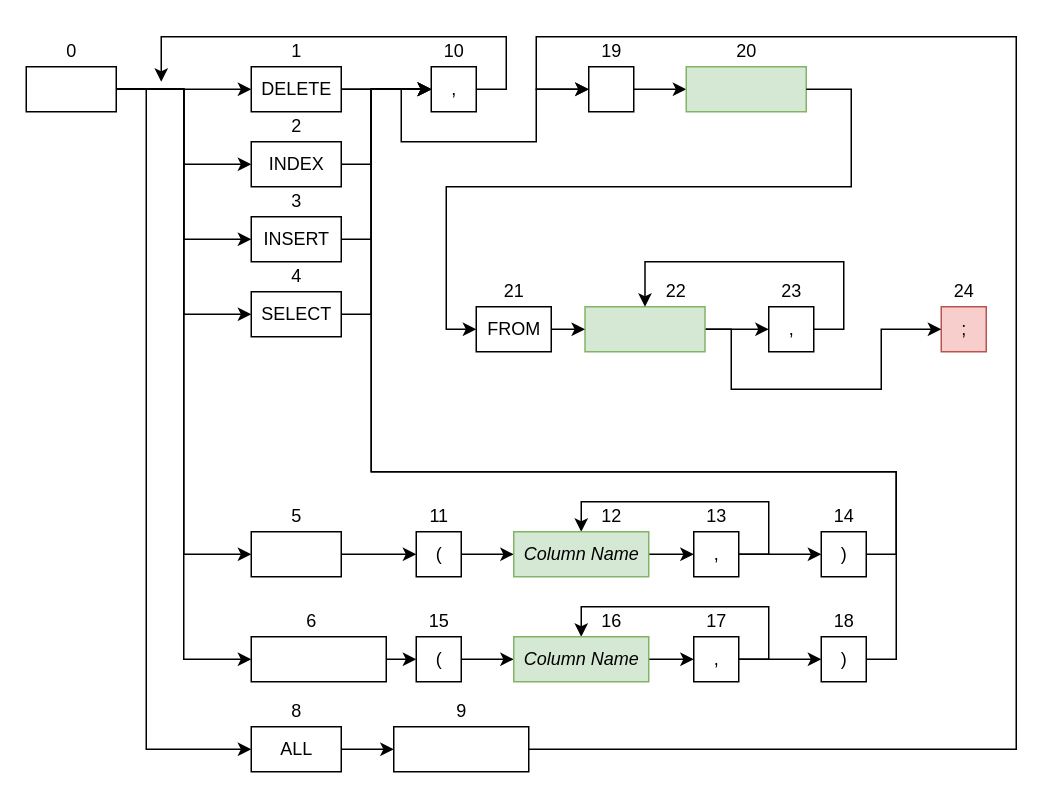
Image size: 1055x798. Some labels were removed from this diagram. Each missing label, with the box of its shape:
ON: (587, 65, 634, 112)
PRIVILEGES: (392, 725, 529, 772)
REFERENCES: (250, 635, 386, 682)
REVOKE: (25, 65, 116, 112)
Table Name: (685, 65, 806, 112)
UPDATE: (250, 530, 341, 577)
Username: (584, 305, 705, 352)
